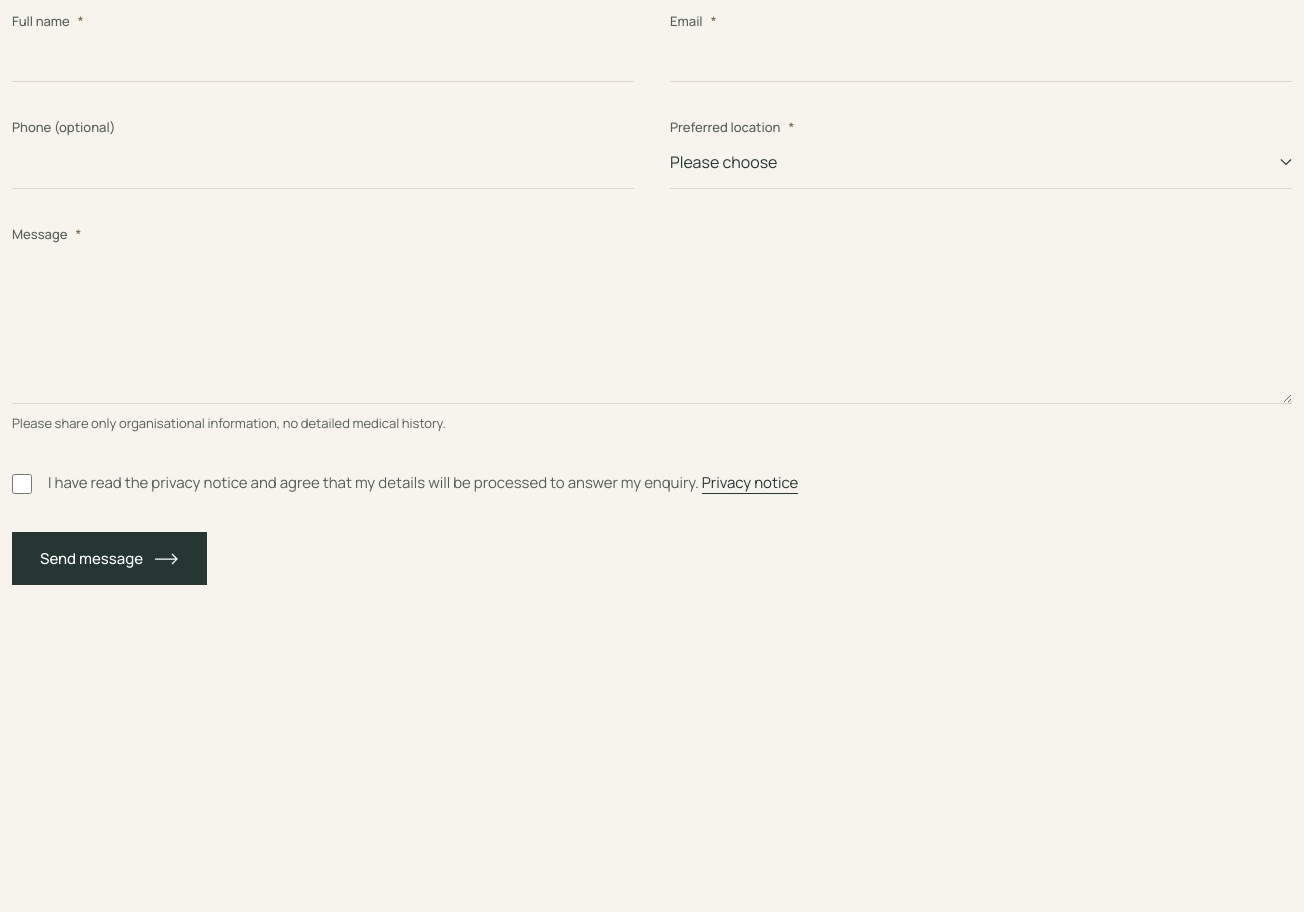
Test: ContactForm › never claims success when no e-mail provider is configured
In the field labelled "Full name *": x=323, y=56 top-left (12, 30), bottom-right (634, 82), type "Arta Krasniqi"
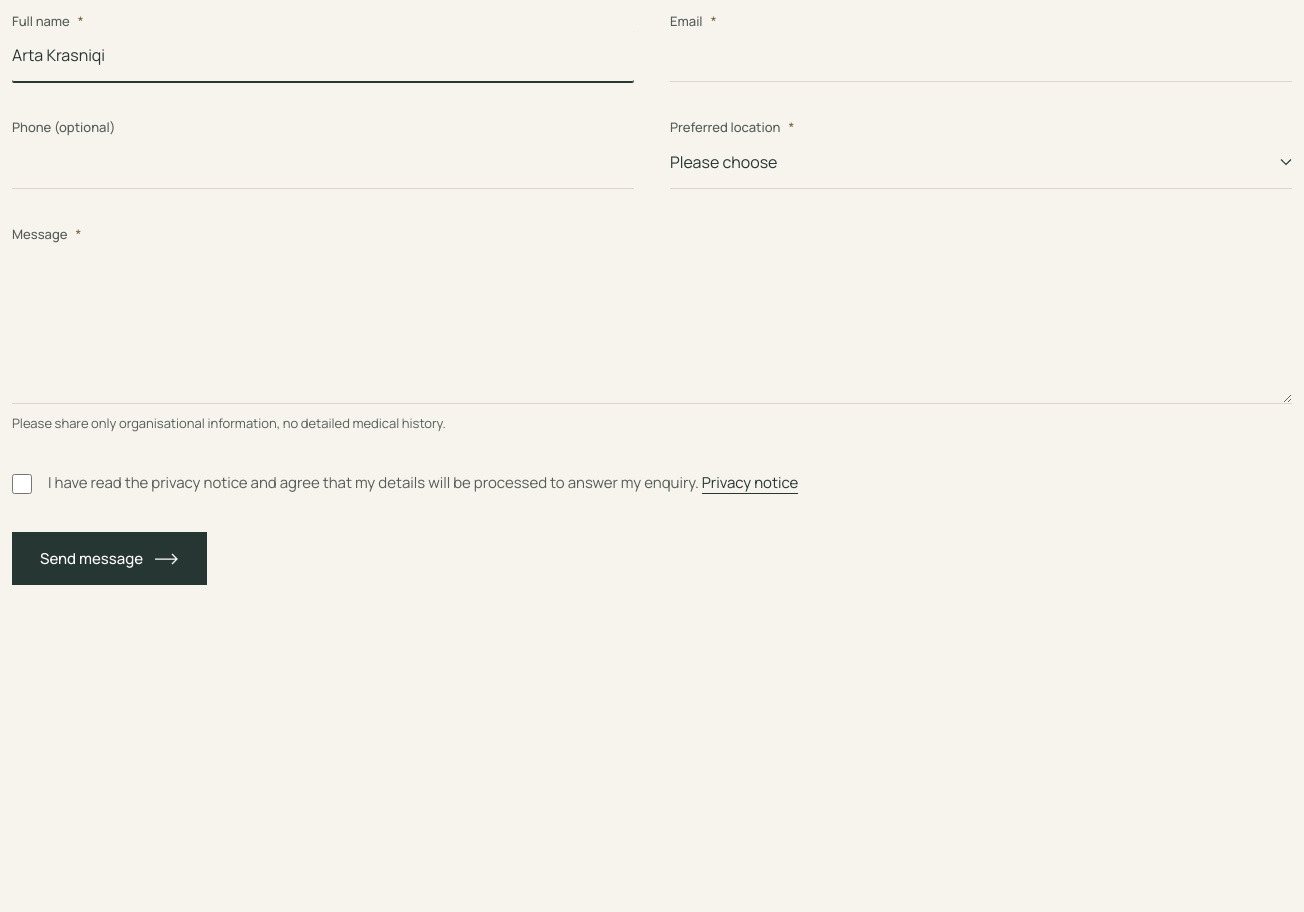
In the field labelled "Email *": x=981, y=56 top-left (670, 30), bottom-right (1292, 82), type "arta@example.com"
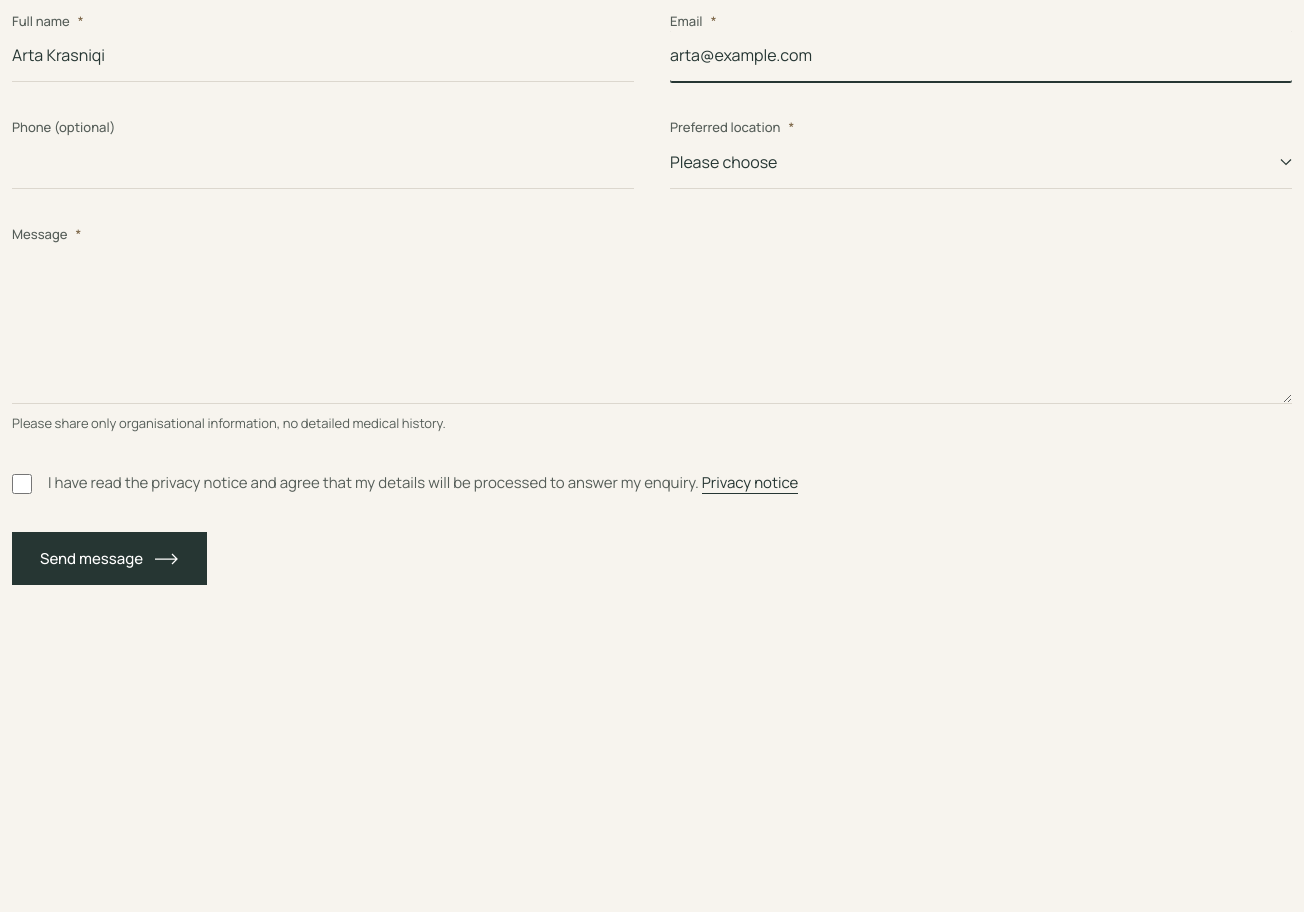
Select "Royal Medical – Prishtina" in the dropdown labelled "Preferred location *": x=981, y=163 top-left (670, 137), bottom-right (1292, 189)
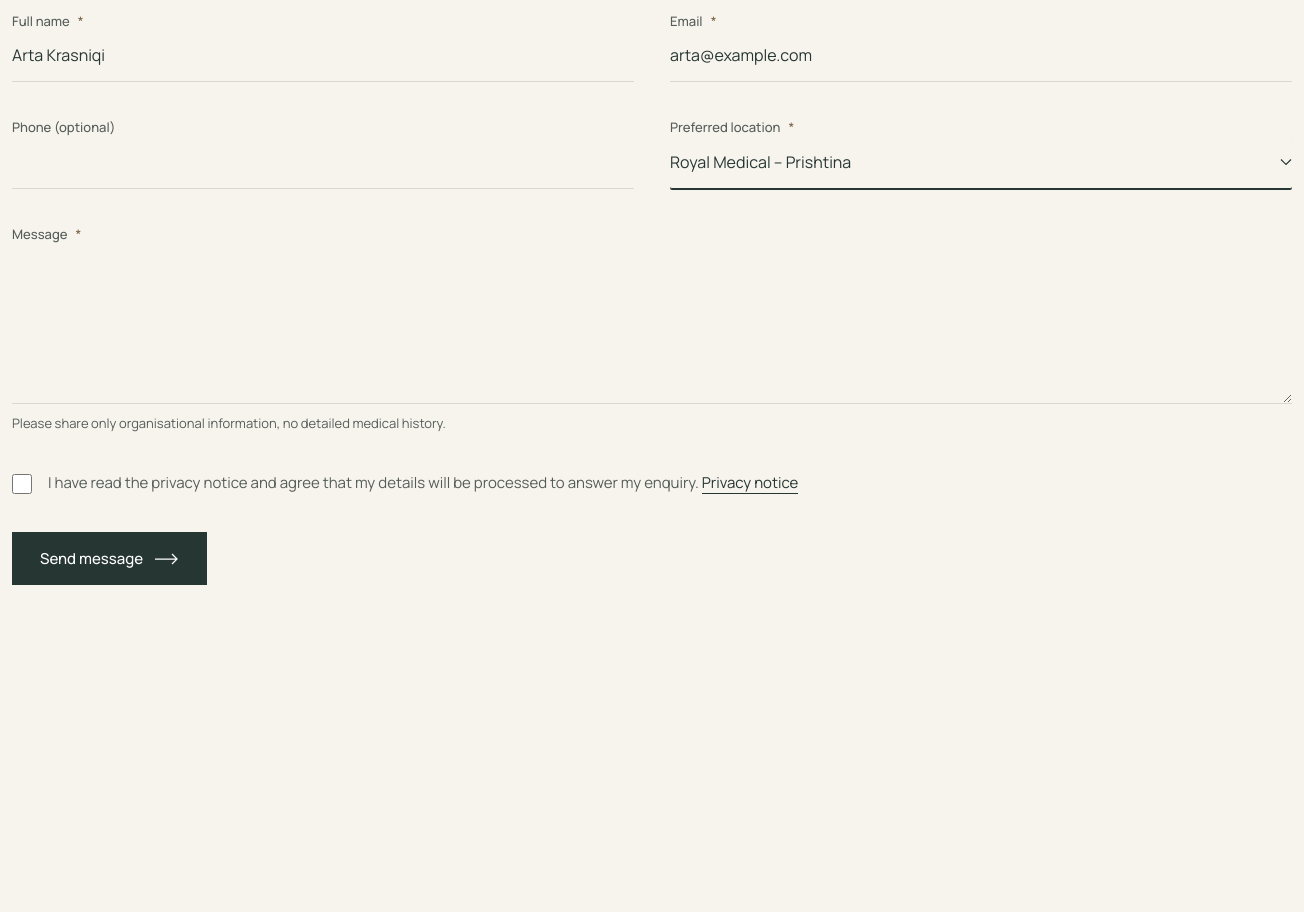
In the text box labelled "Message *": x=652, y=324 top-left (12, 243), bottom-right (1292, 404), type "I would like to book a consultation."
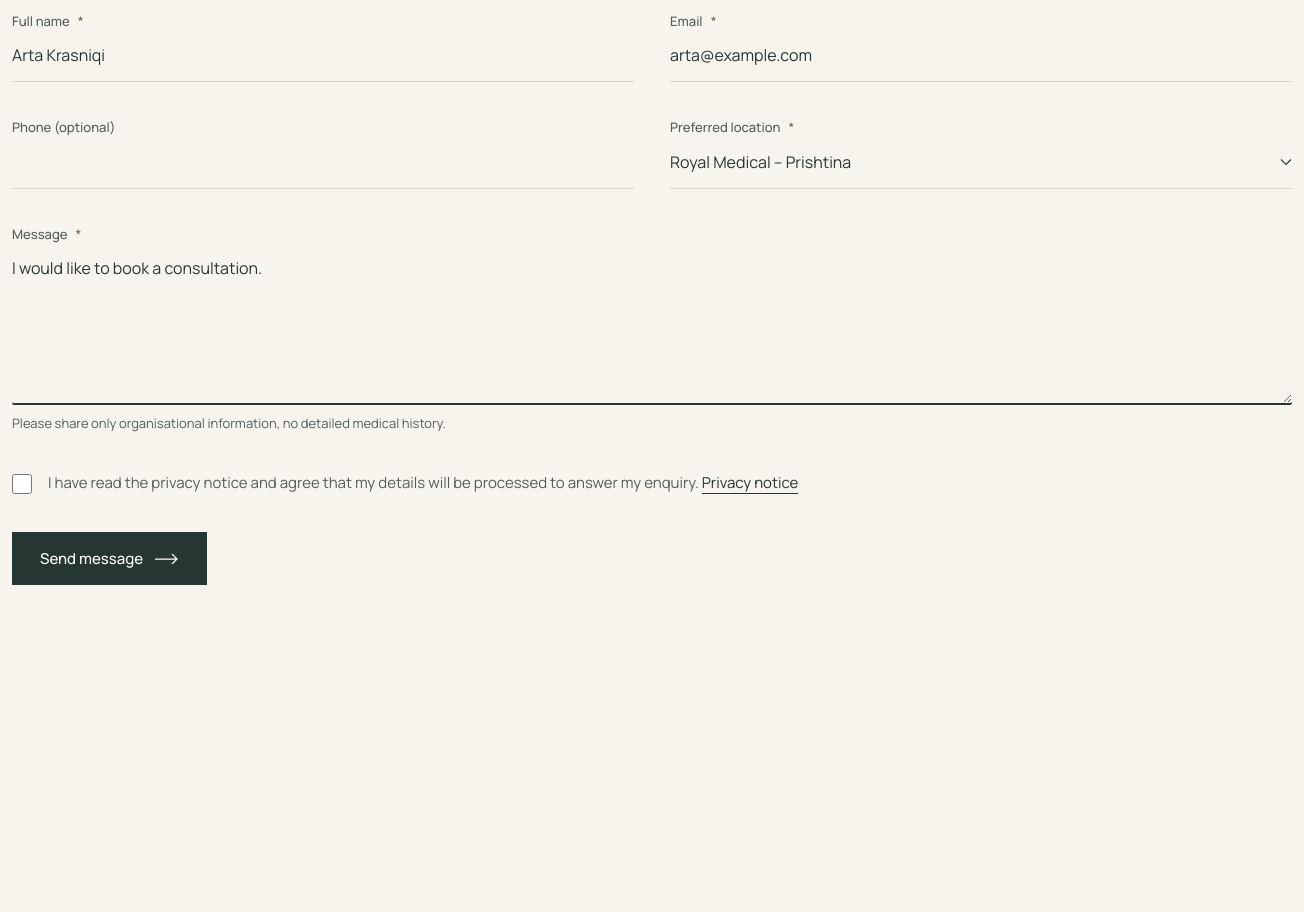
Click the checkbox: x=22, y=484 top-left (12, 474), bottom-right (32, 494)
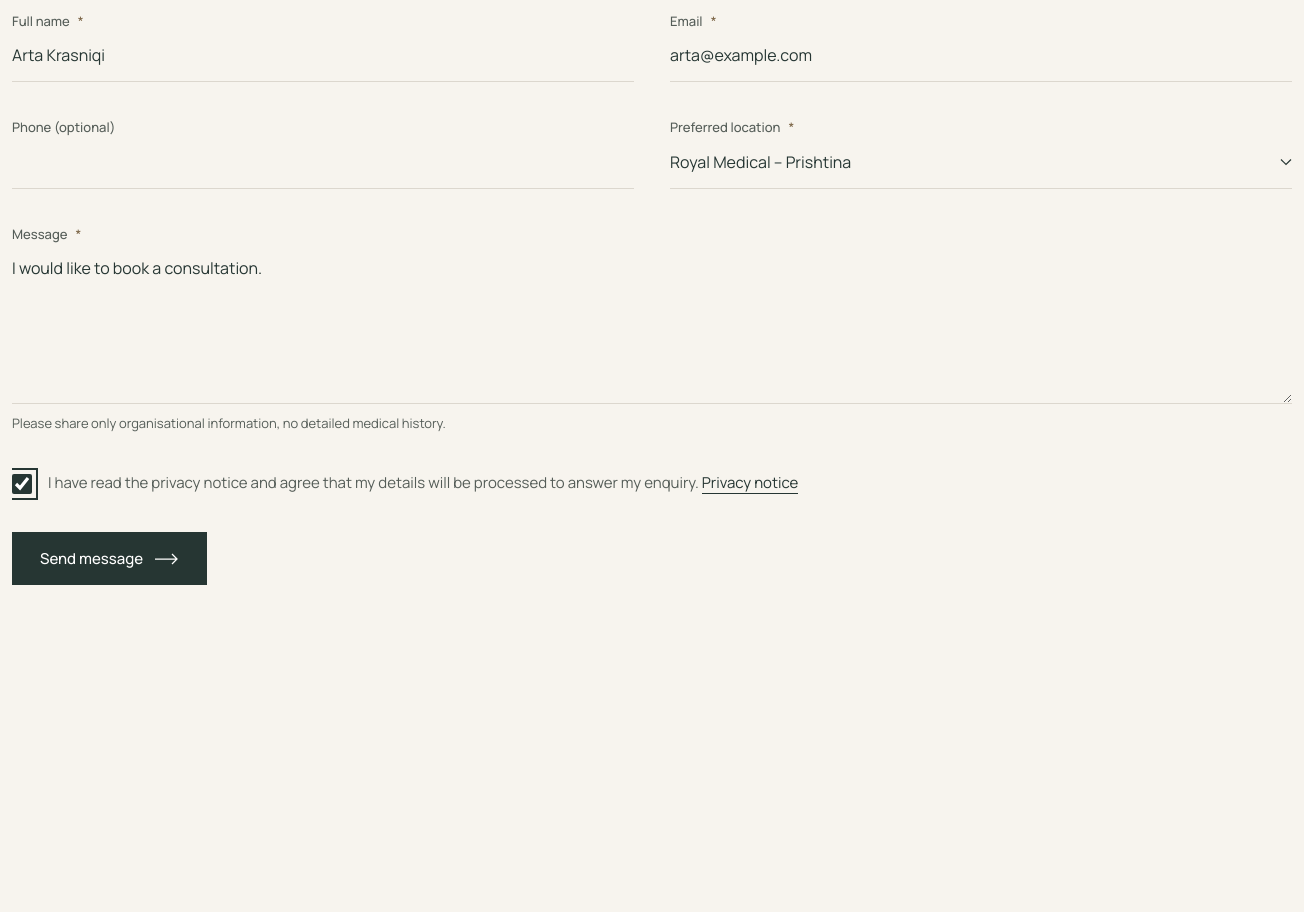
Click the button "Send message": x=110, y=559 top-left (12, 532), bottom-right (207, 585)
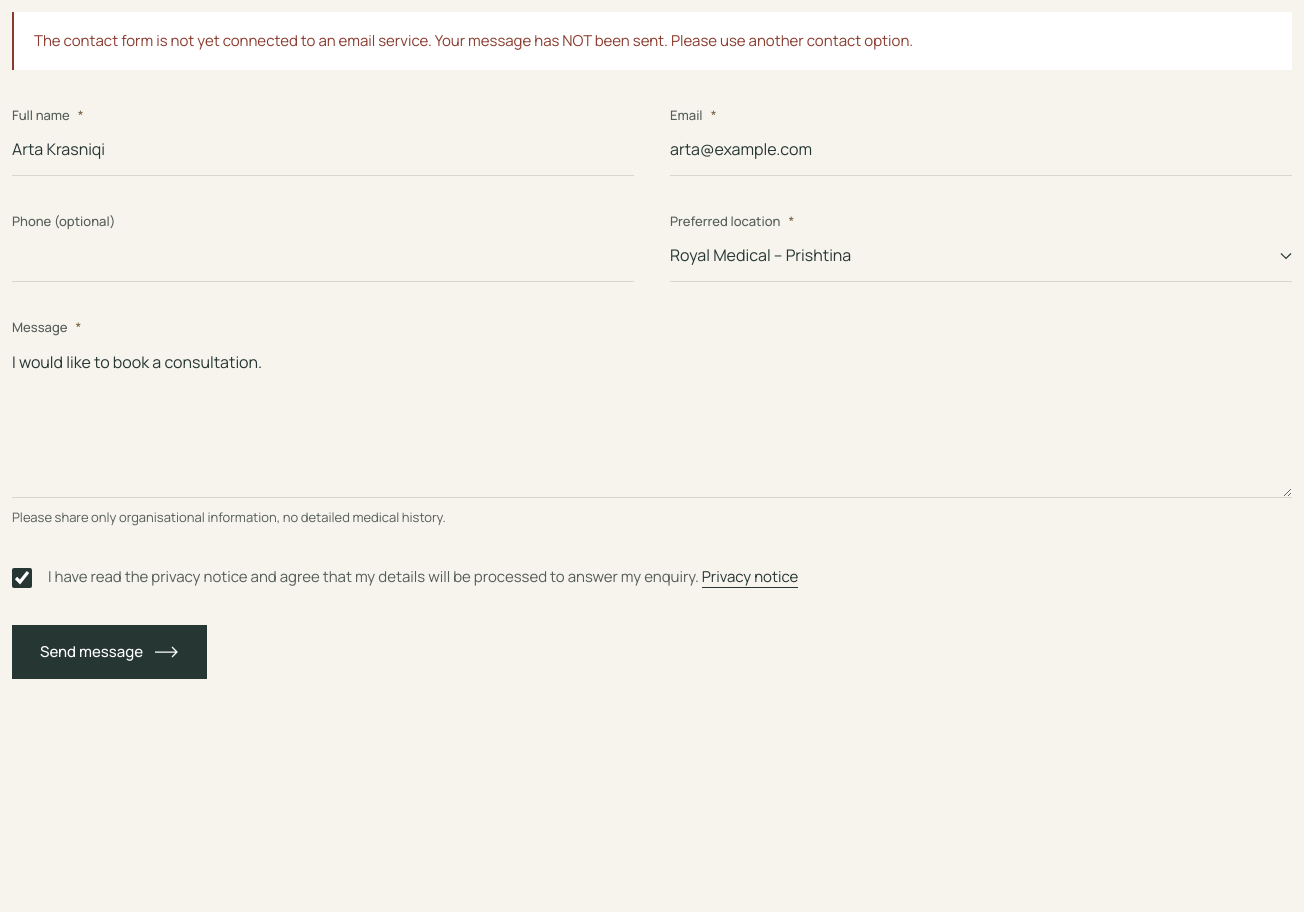
Expected: the text "has NOT been sent" is shown, top-left (34, 30), bottom-right (913, 51)
